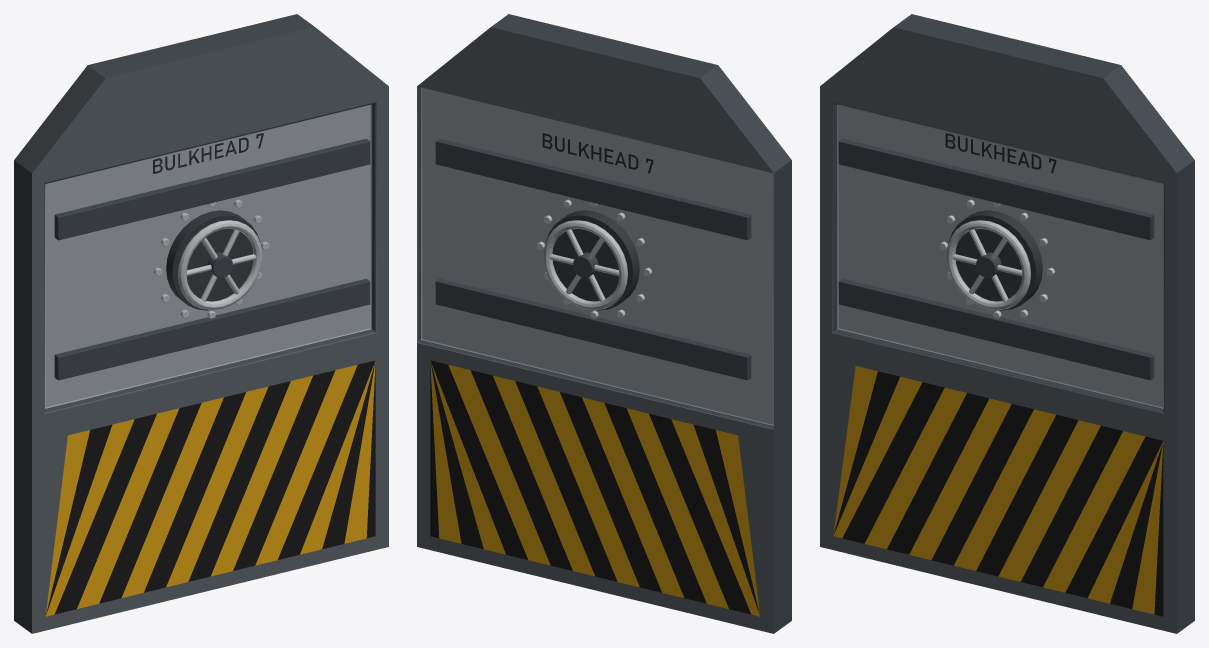
File: door_bulkhead.glb
3 renders of one model, left to right at view 1: azimuth 30°, elevation 25°; view 2: azimuth 150°, elevation 25°; view 3: azimuth 330°, elevation 25°, orthographic.
Visible parts, largest first — view 1: door_bulkhead_Leaf, door_bulkhead_Leaf_glass, door_bulkhead_Leaf_detail; view 2: door_bulkhead_Leaf, door_bulkhead_Leaf_glass, door_bulkhead_Leaf_detail; view 3: door_bulkhead_Leaf, door_bulkhead_Leaf_glass, door_bulkhead_Leaf_detail.
Part boxes in pixels (left/top/right/bottom): door_bulkhead_Leaf: left=14, top=14, right=388, bottom=633; door_bulkhead_Leaf_glass: left=45, top=133, right=375, bottom=616; door_bulkhead_Leaf_detail: left=54, top=138, right=370, bottom=380; door_bulkhead_Leaf: left=417, top=14, right=791, bottom=633; door_bulkhead_Leaf_glass: left=430, top=133, right=760, bottom=616; door_bulkhead_Leaf_detail: left=435, top=138, right=751, bottom=380; door_bulkhead_Leaf: left=820, top=14, right=1194, bottom=633; door_bulkhead_Leaf_glass: left=833, top=133, right=1163, bottom=616; door_bulkhead_Leaf_detail: left=838, top=138, right=1154, bottom=380.
Size of the model in its own units: 1.6 by 2.3 by 0.34.
